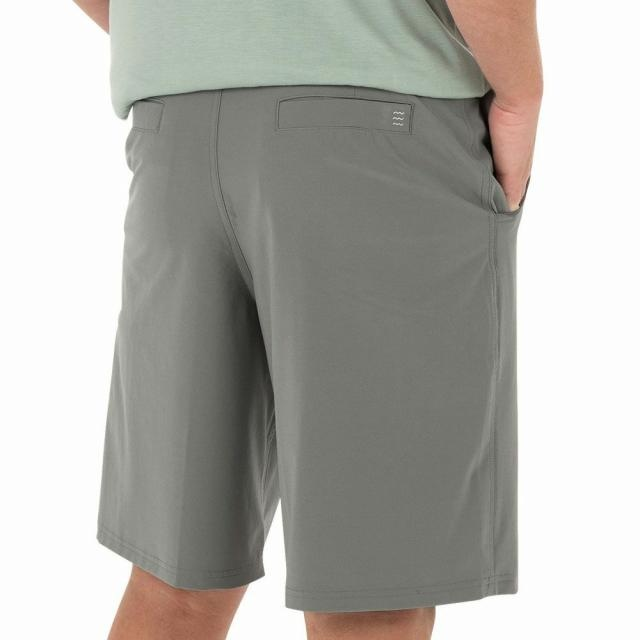Shorts: (98, 81, 526, 638)
